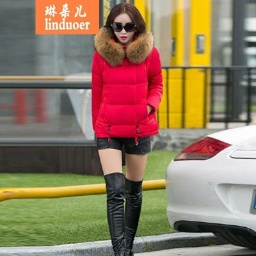face: (92, 4, 149, 48)
